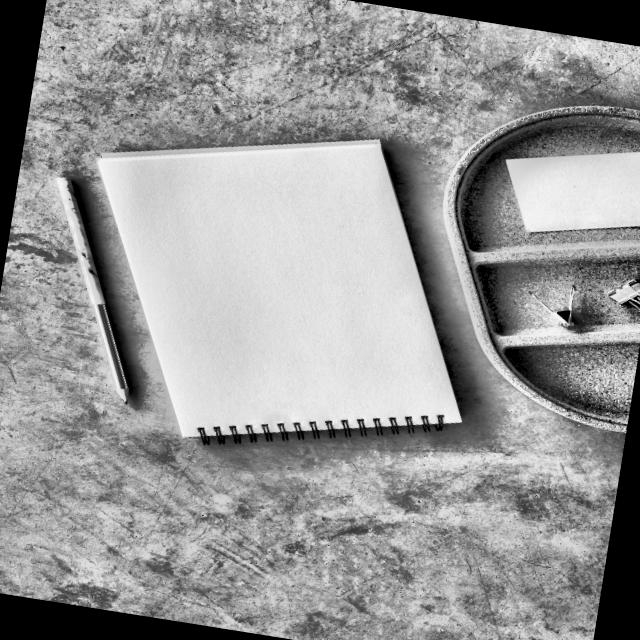Notebook: (47, 91, 516, 488)
